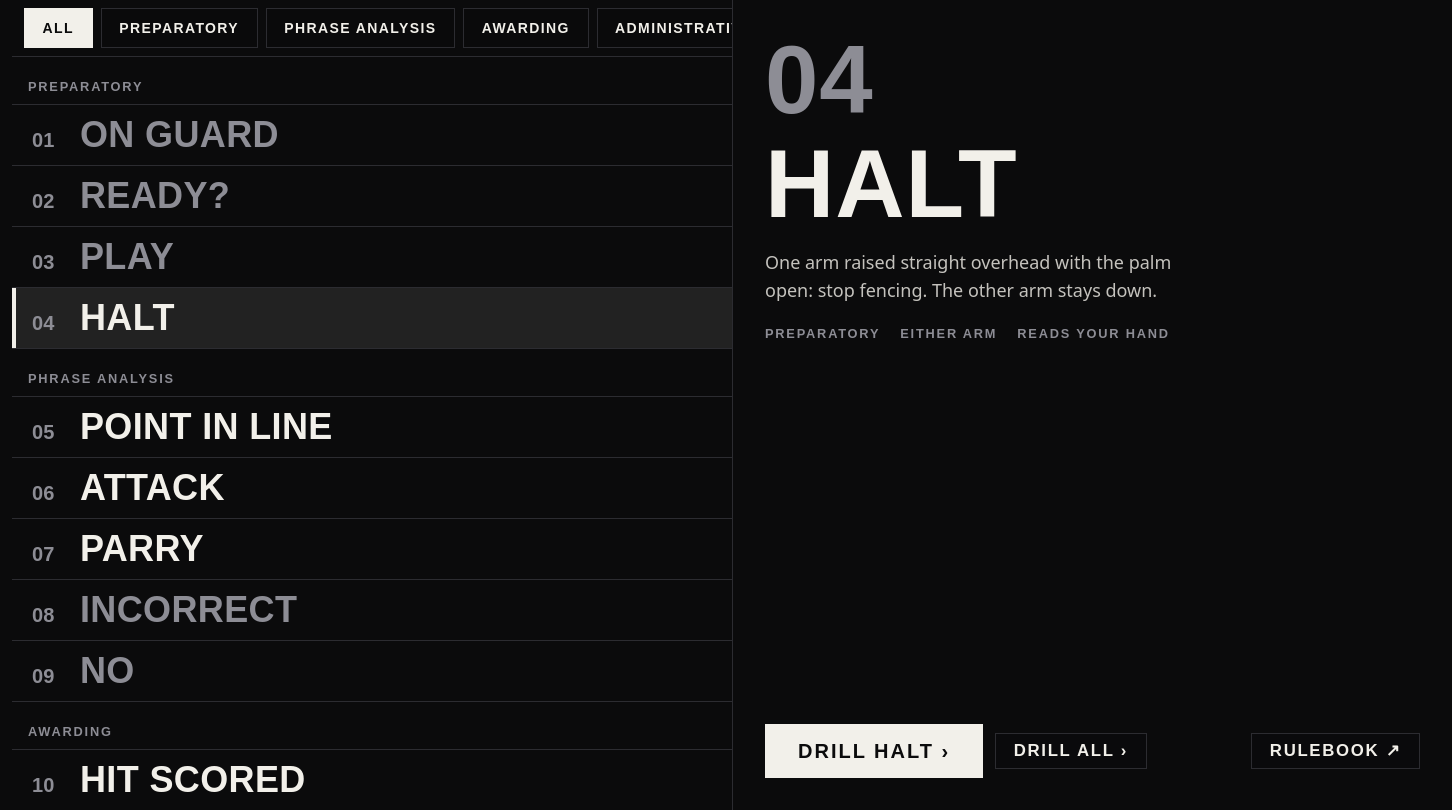
Test: reference page › narrows the index to one group
Step 1. Click the button "Awarding" → click(526, 28), box [463,8,588,48]
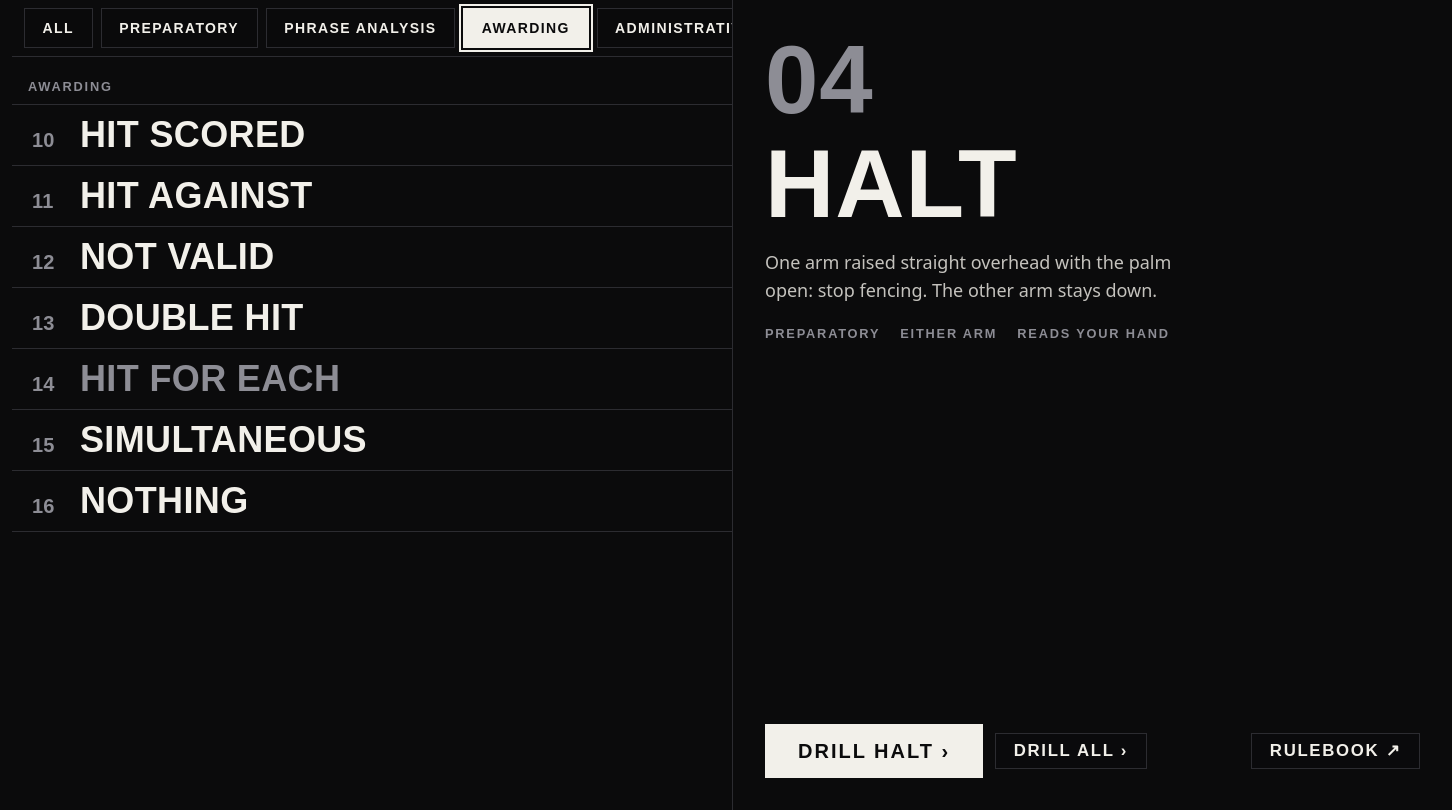
Expected: the button "10 Hit scored" is shown, [12,105,732,165]
Expected: the button "On guard" is gone
